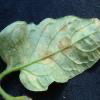Tomato mold leaf: (1, 13, 99, 94)
